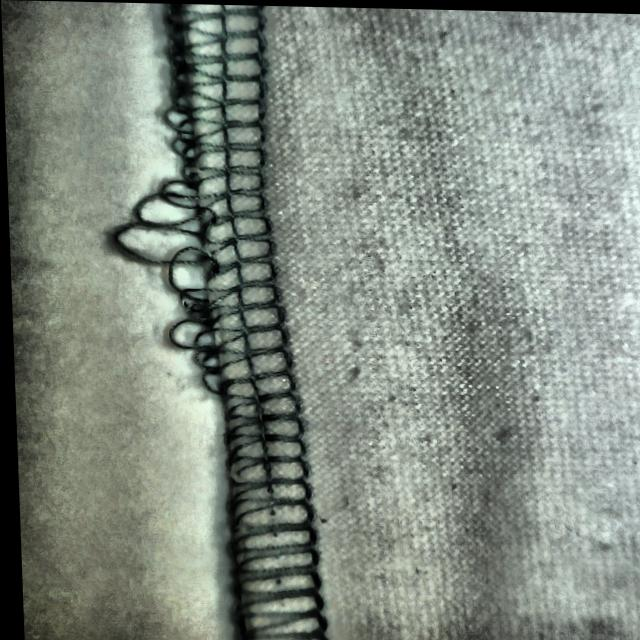Stitch: (104, 61, 292, 396)
